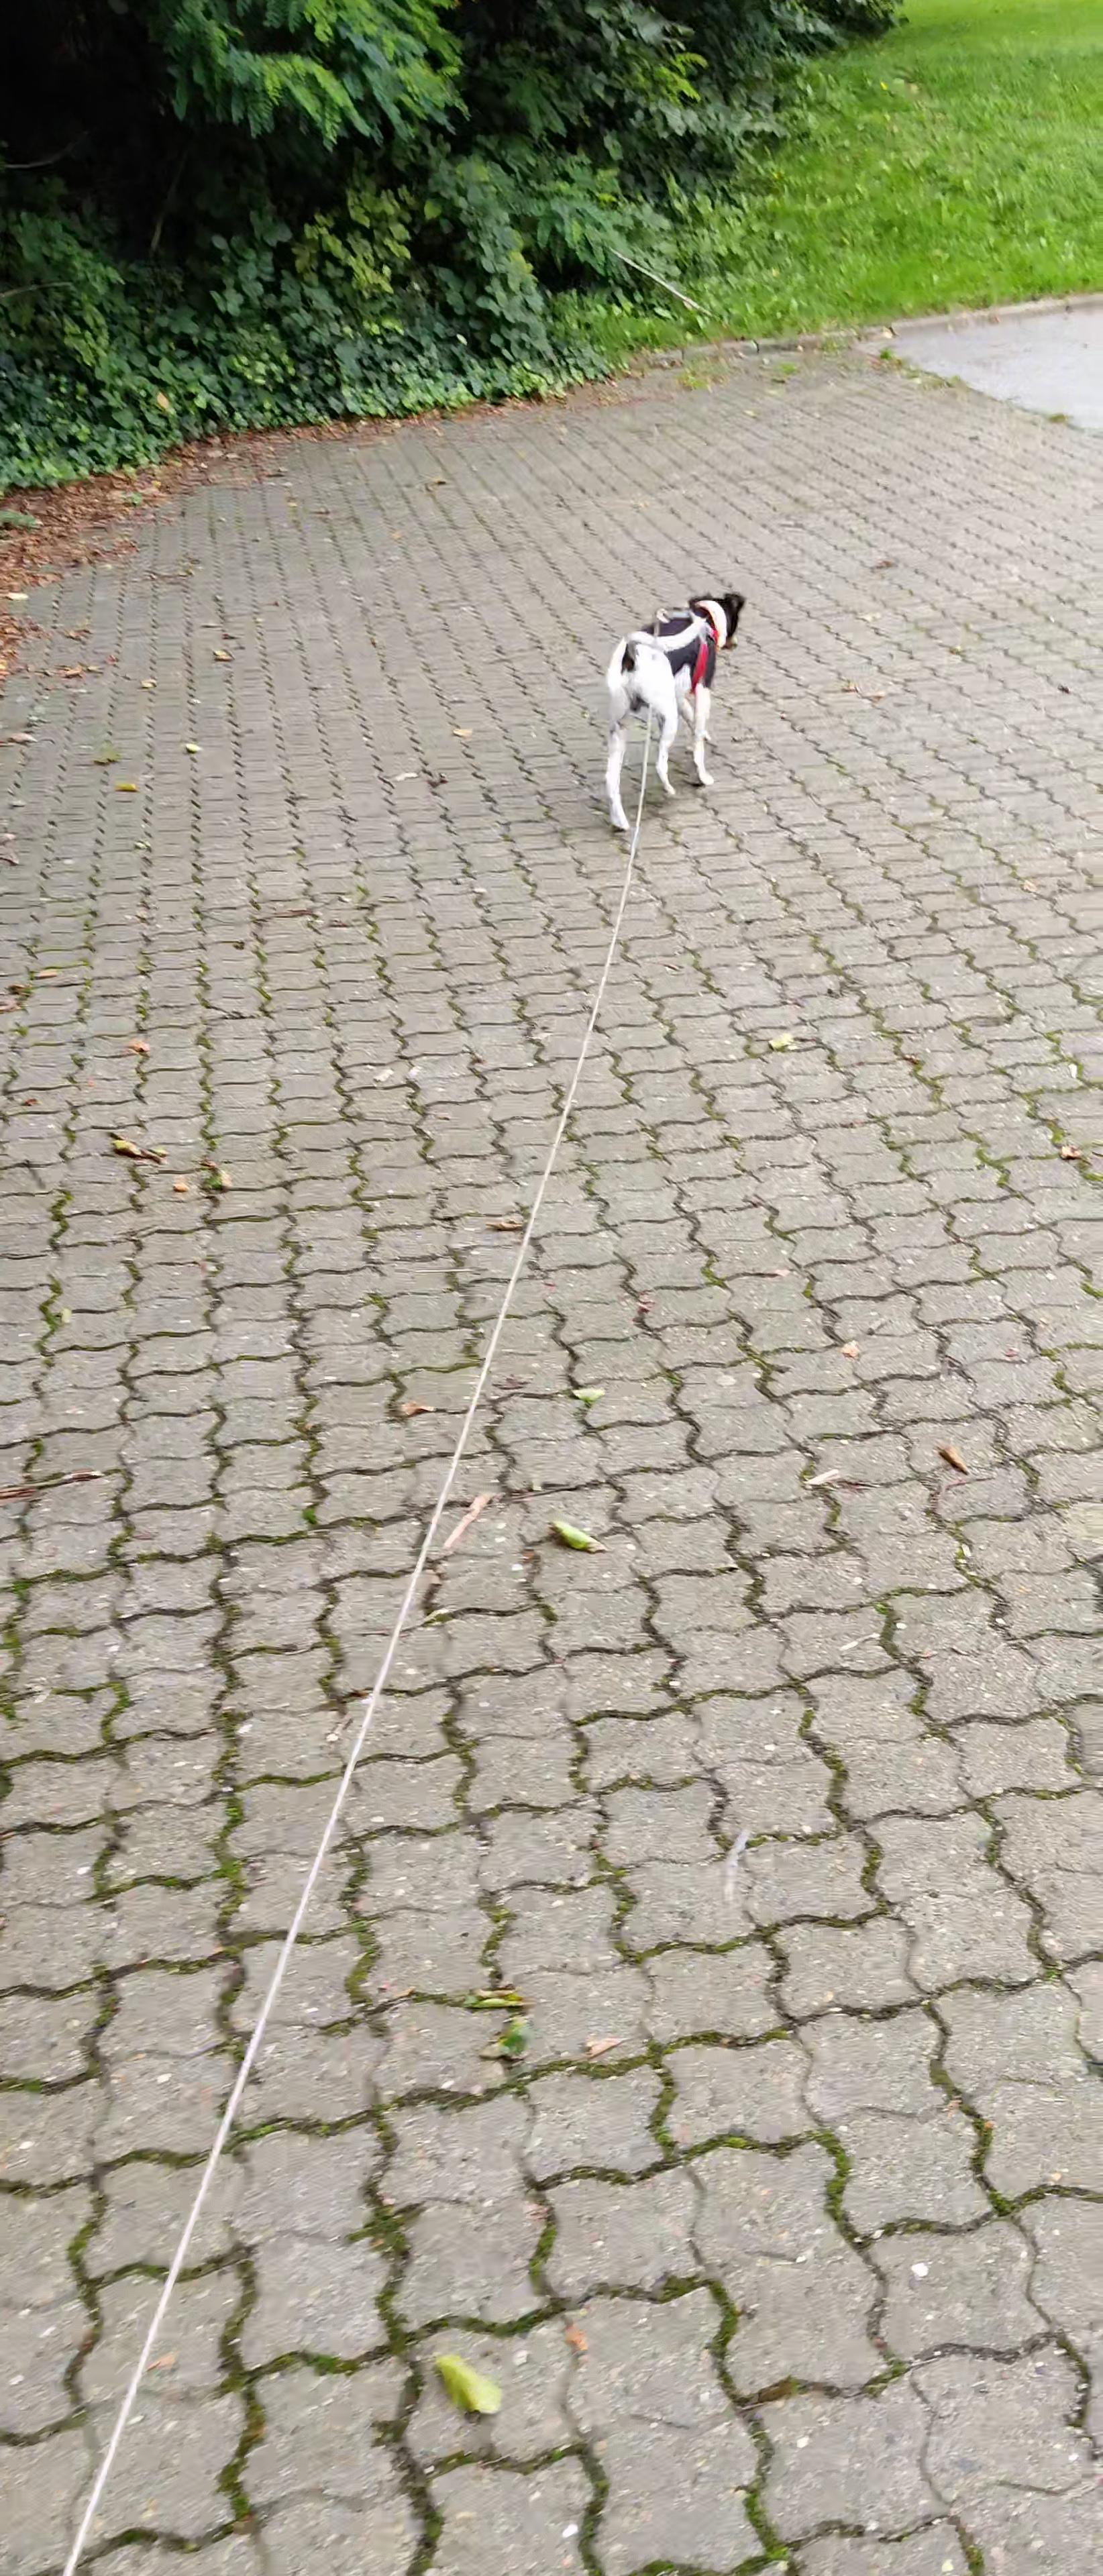Dog: (592, 588, 756, 841)
